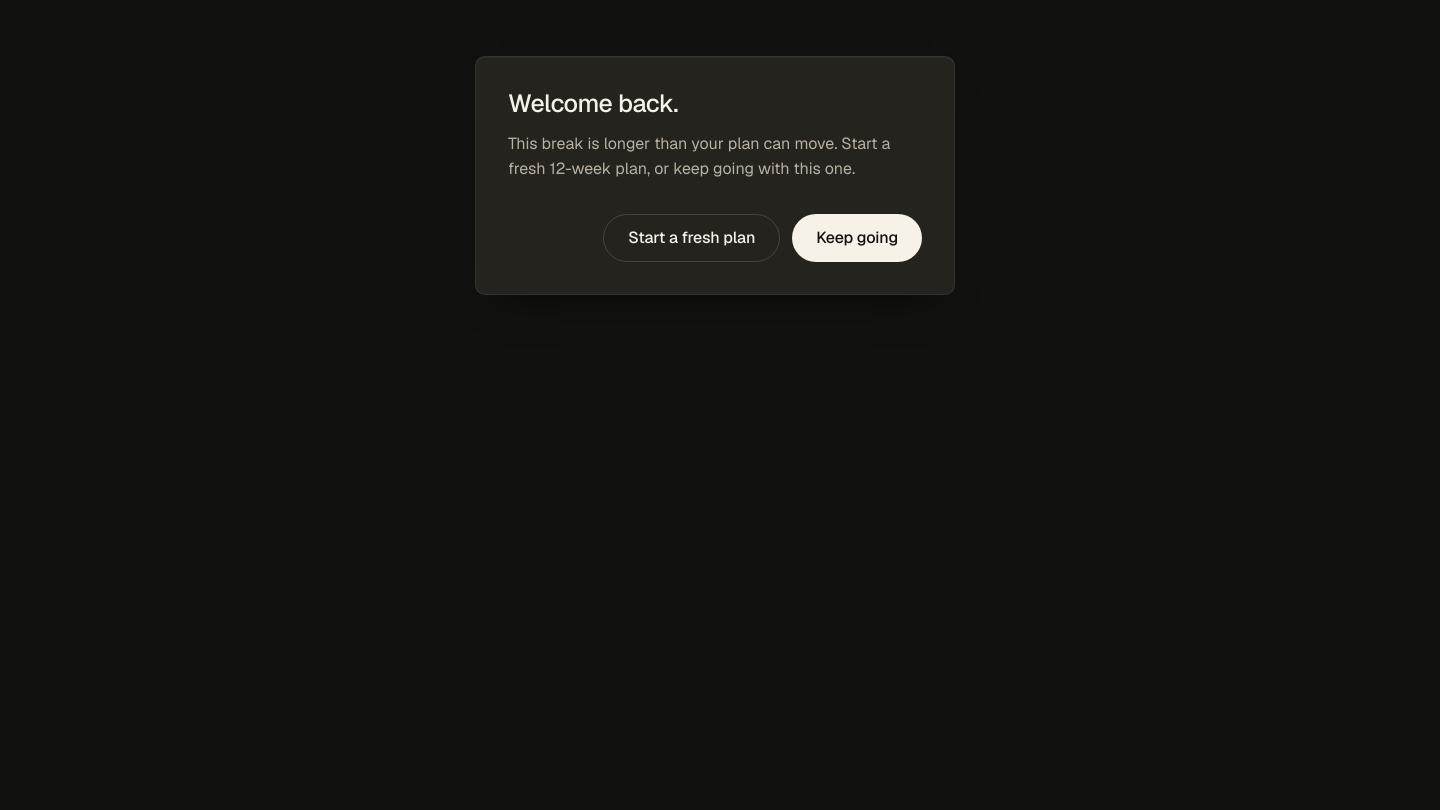
it: Start a fresh plan › with Pro: asks the level now, then starts from it
Later steps or results of the test are not shown.
Click the button "Start a fresh plan".
click(692, 238)  # box top-left (603, 214), bottom-right (780, 262)
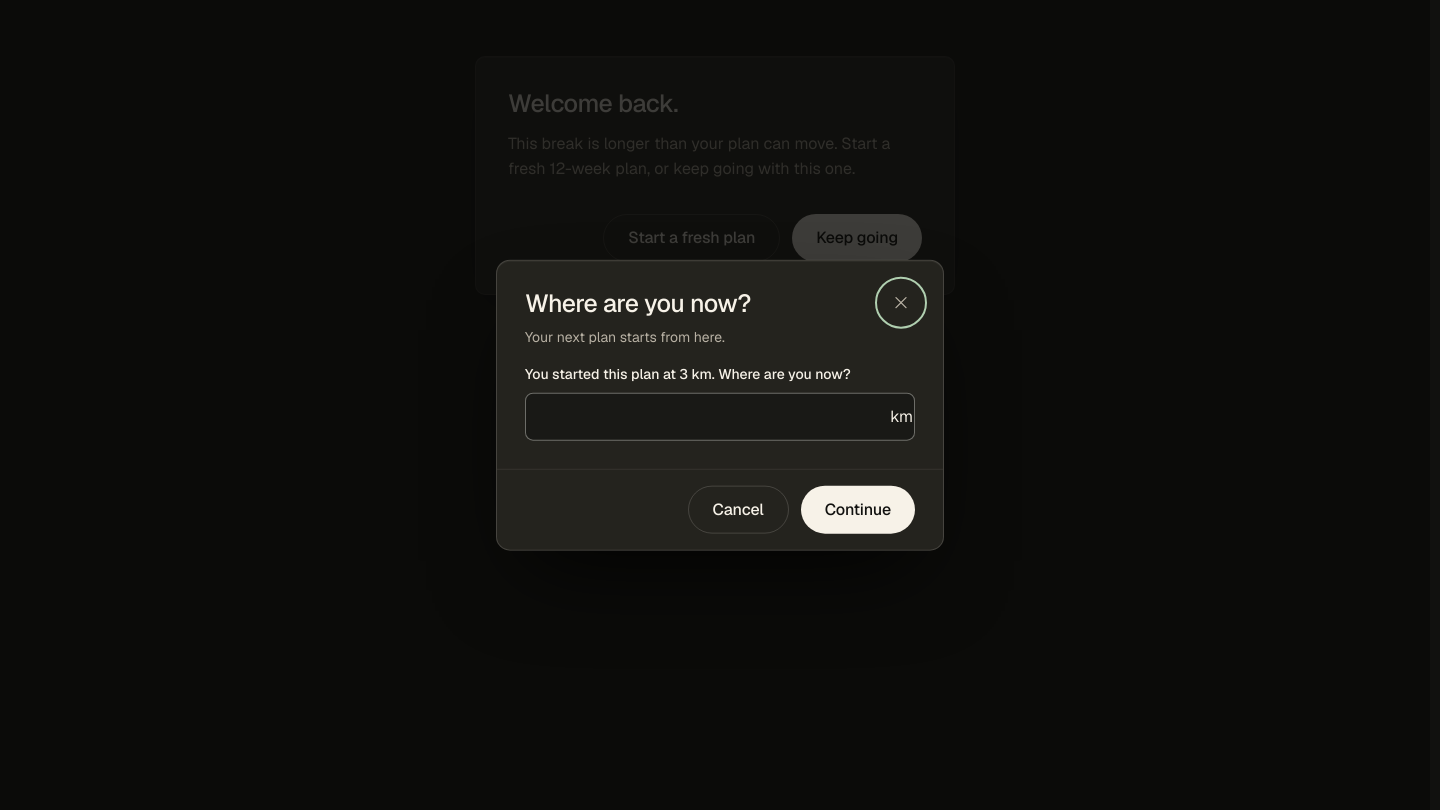
Now the field labelled "You started this plan at 3 km. Where are you now?" is empty, box top-left (525, 392), bottom-right (915, 440)
